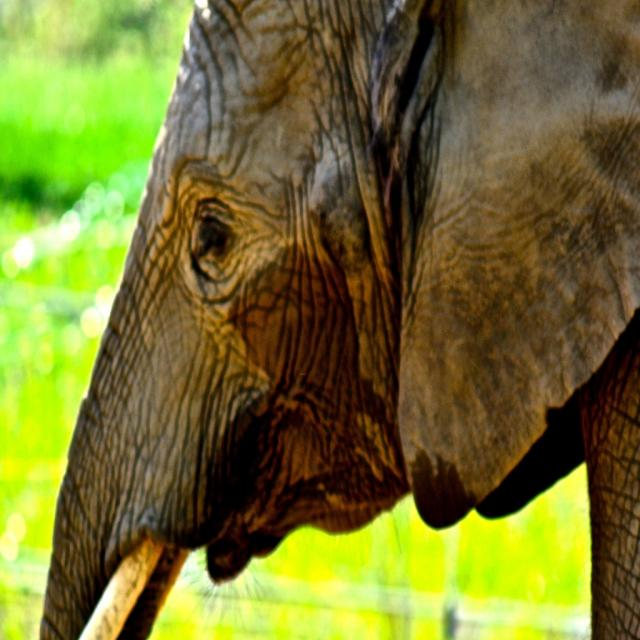Elephant: (18, 0, 637, 639)
